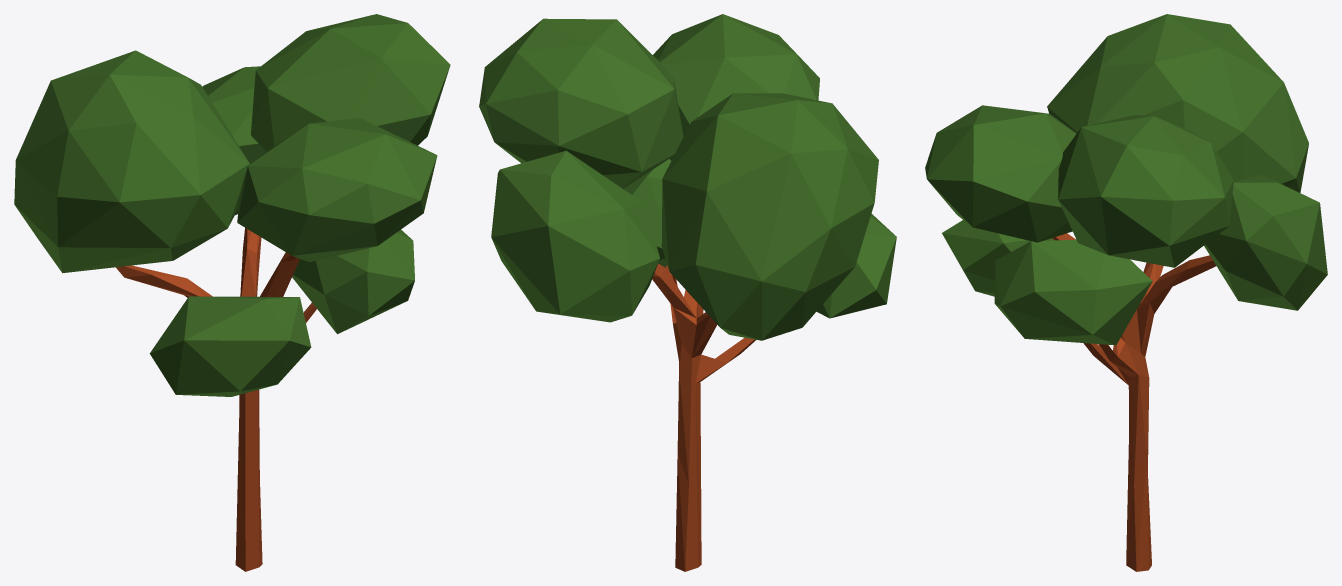
File: SM_tree_town_03.fbx
3 views of the same model, side by side, from view 1: azimuth 30°, elevation 25°; view 2: azimuth 150°, elevation 25°; view 3: azimuth 270°, elevation 25° (orthographic). The views are drawn at different scales.
Visible parts, largest first — view 1: Object293; view 2: Object293; view 3: Object293.
Part boxes in pixels (x1,y1,x2,y2): Object293: (14,14,450,571); Object293: (479,14,896,571); Object293: (925,14,1327,571).
Bounding box in the file's own units: 264 × 334 × 247.
